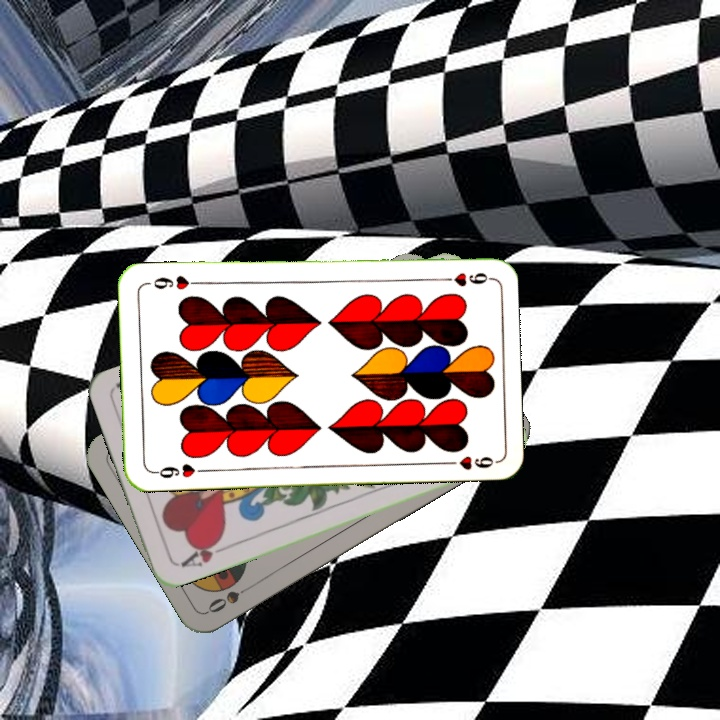H9: (148, 459, 208, 481), (432, 268, 491, 287)
HA: (176, 533, 232, 570)
SO: (203, 579, 258, 616)
